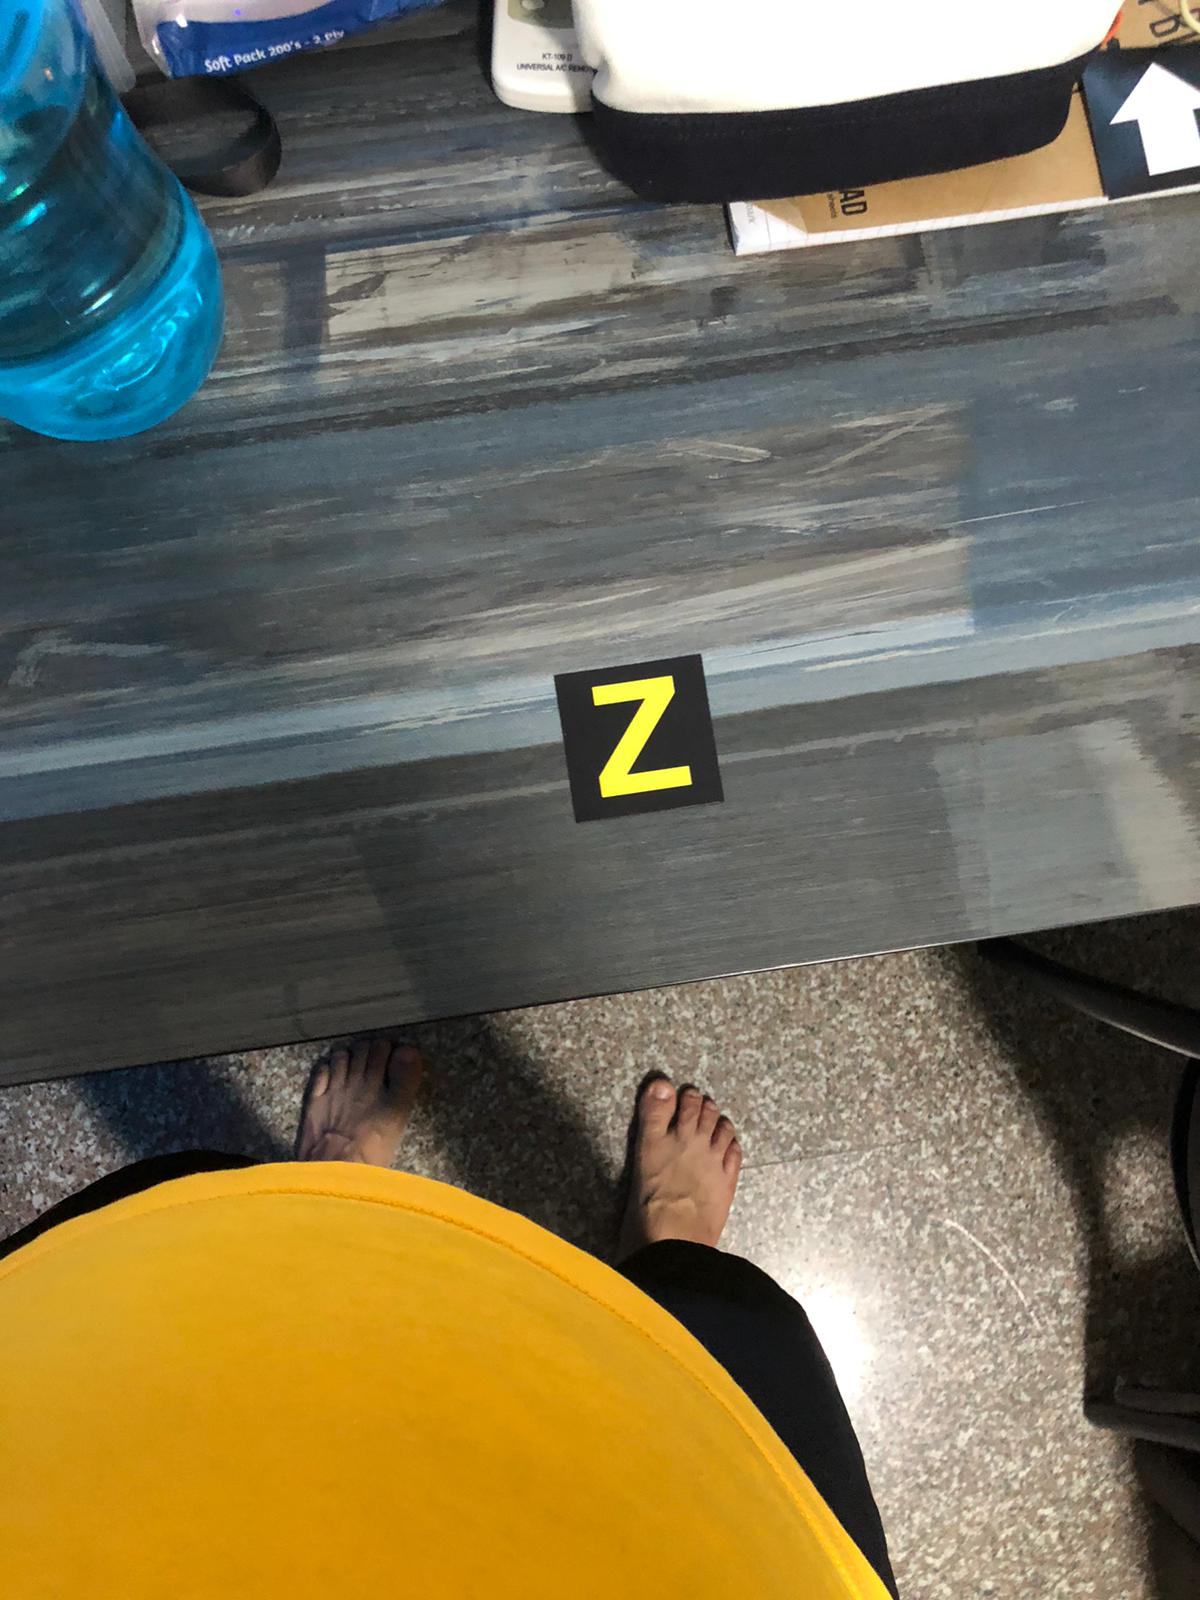Z: (558, 671, 718, 819)
